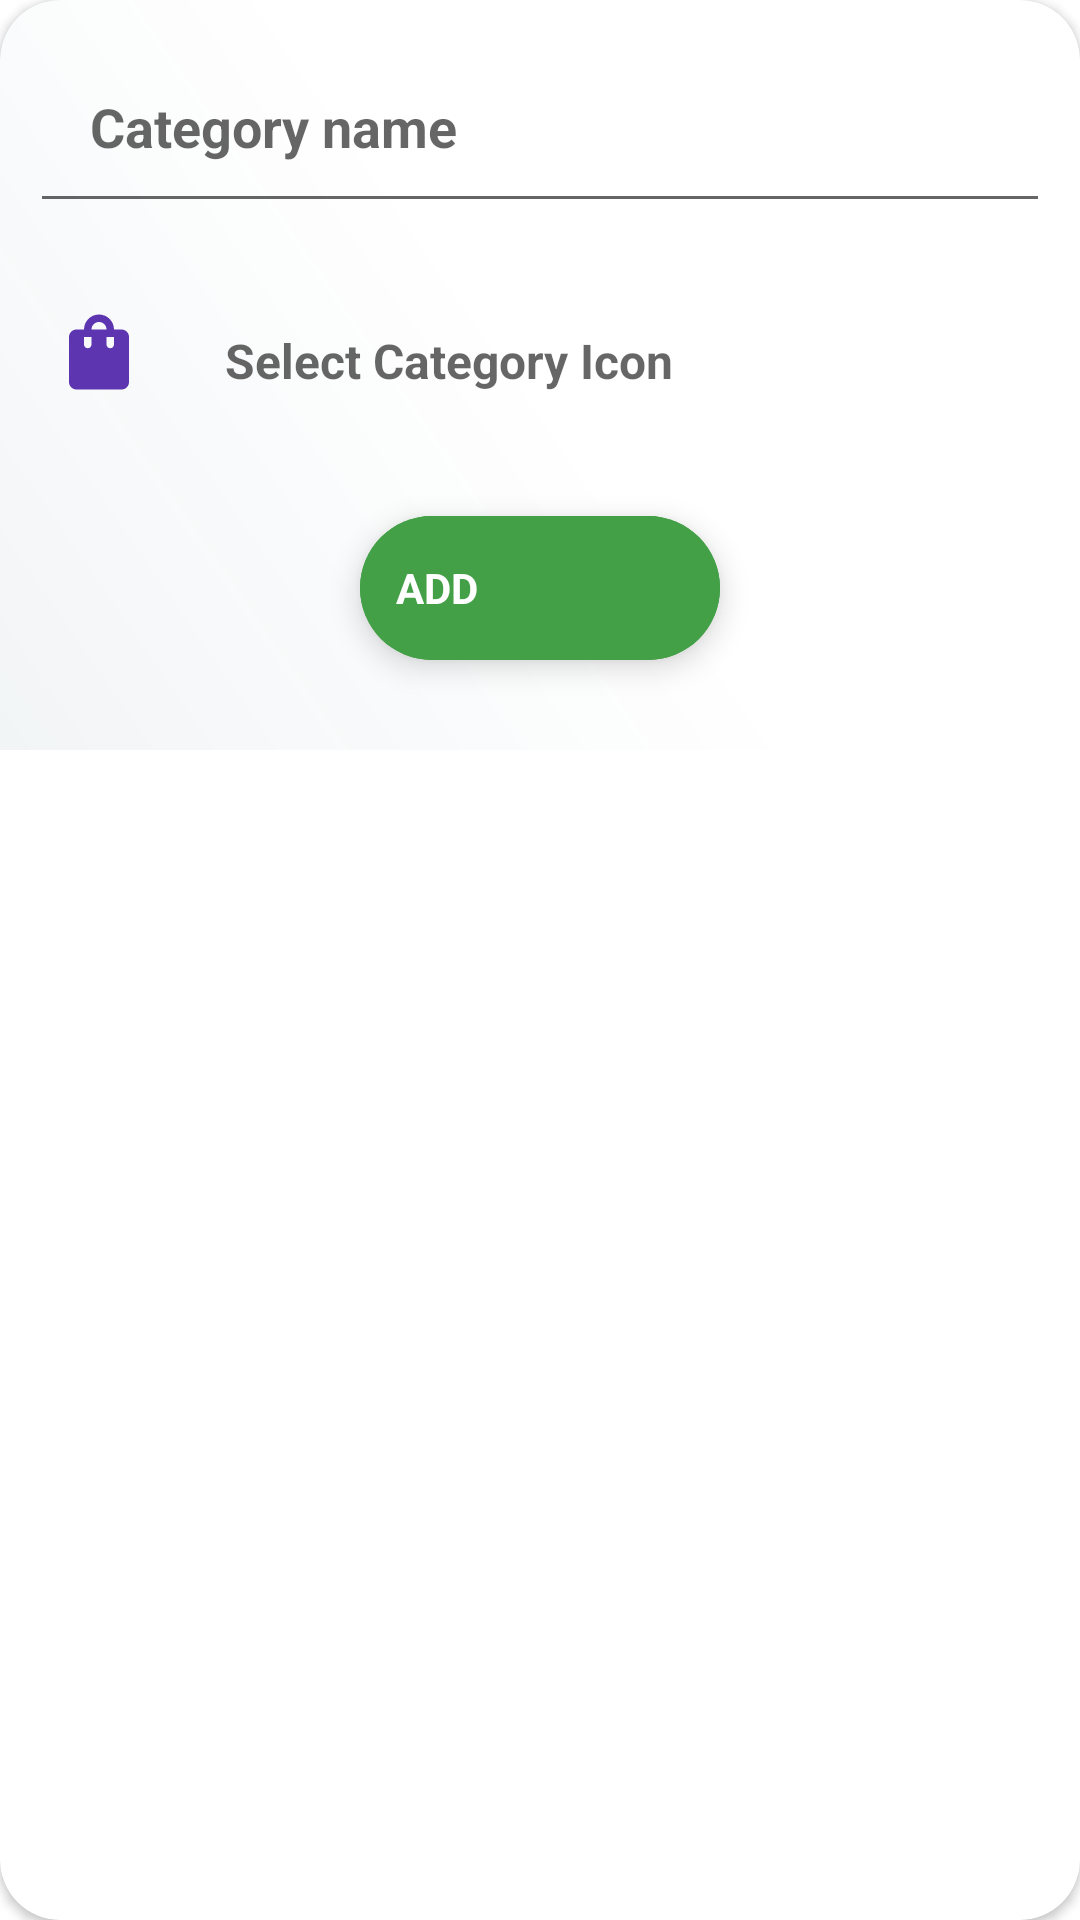

Icon bounding boxes for this 1080×1920 phone screenshot, format (x1, y1, x2, y2):
shopping: (69, 314, 129, 390)
